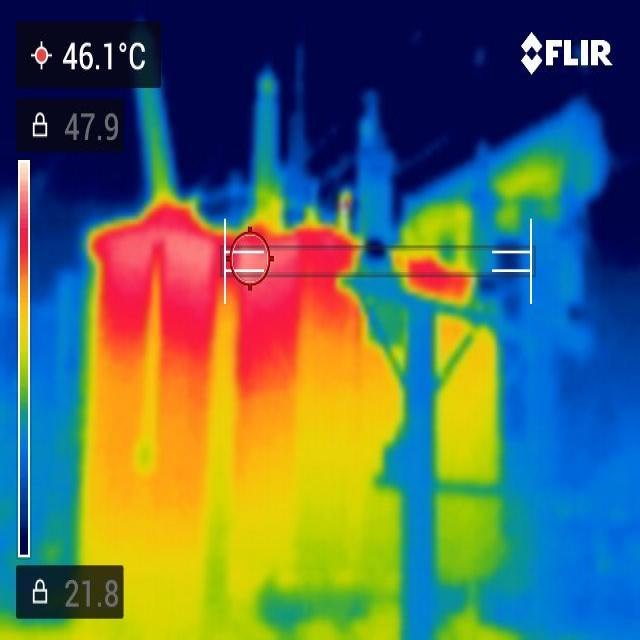Loose Joint -Faulty: (94, 206, 482, 374)
